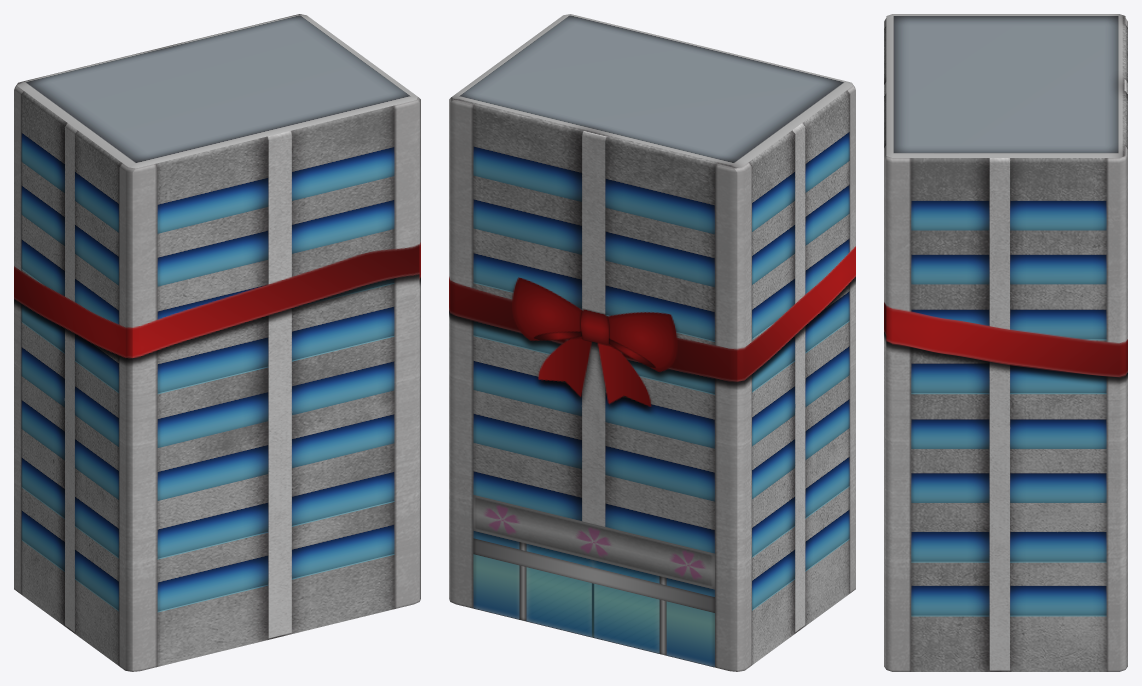
The model's file is building.fbx.
3 views of the same model, side by side, from view 1: azimuth 30°, elevation 25°; view 2: azimuth 150°, elevation 25°; view 3: azimuth 270°, elevation 25° (orthographic).
Parts seen in each view (by area): view 1: polySurface8; view 2: polySurface8; view 3: polySurface8.
Part boxes in pixels (left/top/right/bottom): polySurface8: left=14, top=14, right=420, bottom=671; polySurface8: left=449, top=14, right=855, bottom=671; polySurface8: left=884, top=14, right=1127, bottom=671.
Size of the model in its own units: 3.85 by 6.27 by 2.7.
